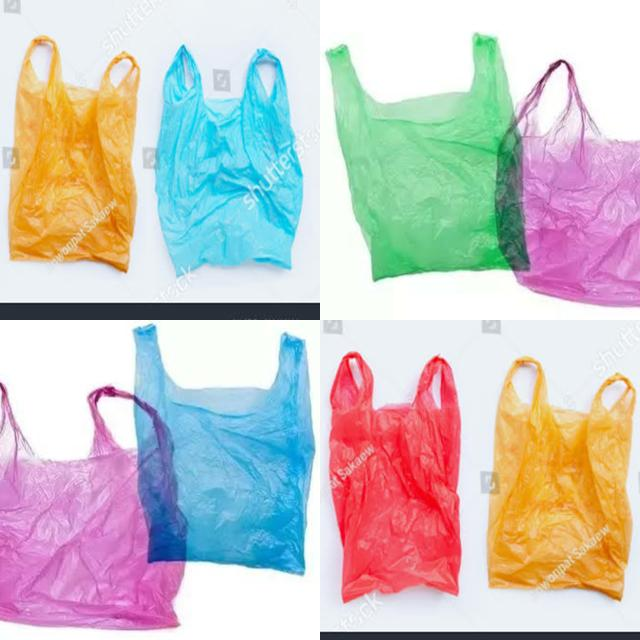Single-layer Plastic: (326, 34, 529, 280), (0, 382, 188, 629), (134, 325, 314, 574), (488, 358, 635, 600), (155, 46, 302, 275), (330, 352, 461, 602), (9, 36, 140, 271), (515, 60, 640, 306)
